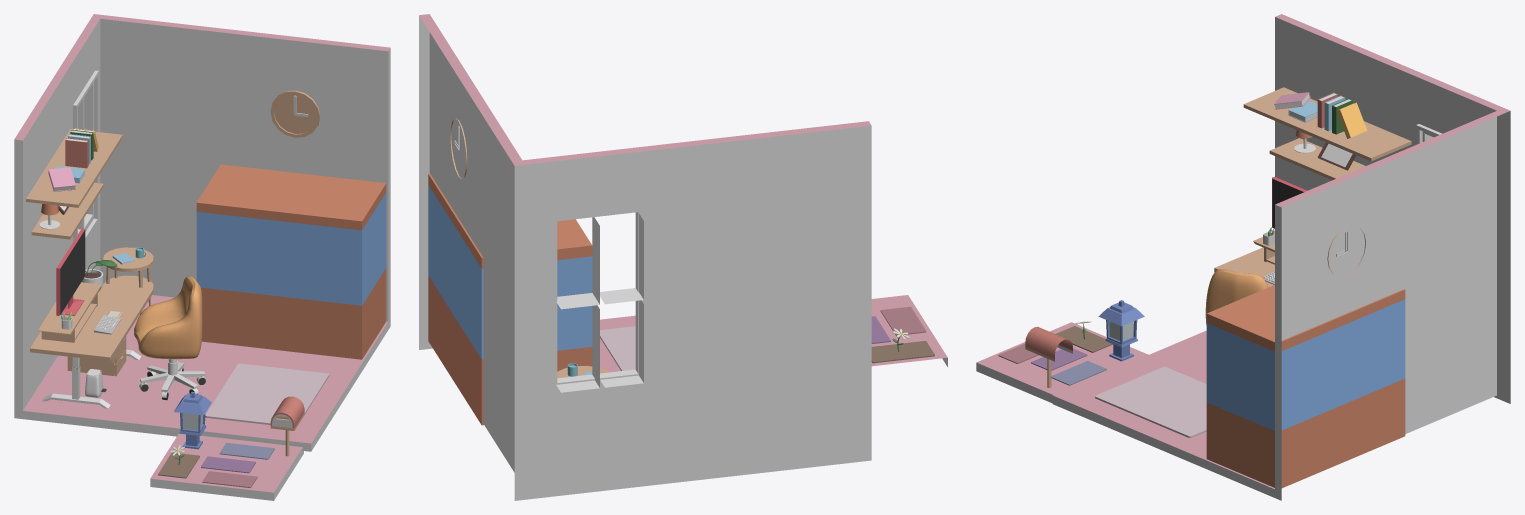
File: room.glb
3 views of the same model, side by side, from view 1: azimuth 30°, elevation 25°; view 2: azimuth 150°, elevation 25°; view 3: azimuth 270°, elevation 25° (orthographic). The views are drawn at different scales.
Parts seen in each view (by area): view 1: Cube.003, Cube.064, Fish Glass, Cube.072, Plane.016, Cube.063, Table Top, Plane.001, Cylinder.014, Table Top.002, Plane, Screen (+13 smaller); view 2: Cube.003, Fish Glass, Cube.064, Plane.009, Cube.072, Plane.016, Plane.019, Plane.022; view 3: Cube.003, Fish Glass, Cube.064, Plane.016, Cube.072, Plane.001, Cube.063, Plane, Plane.014, Cylinder.016, Table Top, Plane.019 (+3 smaller).
Part boxes in pixels (left/top/right/bottom): Cube.003: left=14, top=14, right=390, bottom=451; Cube.064: left=196, top=164, right=386, bottom=359; Fish Glass: left=196, top=193, right=386, bottom=305; Cube.072: left=150, top=433, right=303, bottom=500; Plane.016: left=205, top=363, right=329, bottom=424; Cube.063: left=134, top=276, right=202, bottom=359; Table Top: left=30, top=283, right=153, bottom=361; Plane.001: left=26, top=129, right=122, bottom=207; Cylinder.014: left=270, top=90, right=320, bottom=137; Table Top.002: left=38, top=282, right=101, bottom=342; Plane: left=31, top=182, right=103, bottom=239; Screen: left=60, top=230, right=85, bottom=314; Cube.003: left=419, top=14, right=871, bottom=500; Fish Glass: left=428, top=185, right=592, bottom=359; Cube.064: left=428, top=174, right=592, bottom=425; Plane.009: left=556, top=213, right=643, bottom=392; Cube.072: left=871, top=295, right=947, bottom=366; Plane.016: left=600, top=326, right=635, bottom=370; Plane.019: left=871, top=341, right=934, bottom=363; Plane.022: left=880, top=306, right=926, bottom=335; Cube.003: left=1052, top=14, right=1510, bottom=500; Fish Glass: left=1206, top=299, right=1405, bottom=430; Cube.064: left=1206, top=285, right=1405, bottom=488; Plane.016: left=1095, top=366, right=1206, bottom=437; Cube.072: left=976, top=322, right=1148, bottom=403; Plane.001: left=1243, top=87, right=1411, bottom=161; Cube.063: left=1205, top=269, right=1268, bottom=325; Plane: left=1269, top=138, right=1365, bottom=180; Plane.014: left=1098, top=300, right=1144, bottom=361; Cylinder.016: left=1025, top=326, right=1072, bottom=387; Table Top: left=1214, top=247, right=1274, bottom=287; Plane.019: left=1055, top=326, right=1112, bottom=352.
Size of the model in its own units: 35.43 by 25.47 by 41.35.
